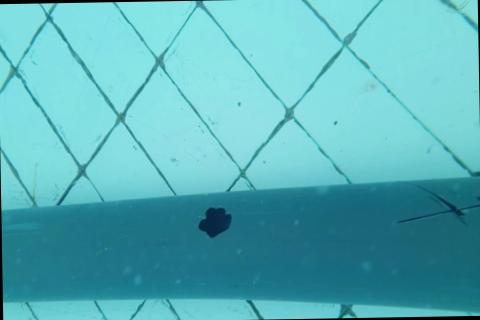kebocoran: (196, 203, 233, 240)
keretakan: (394, 185, 480, 225)
